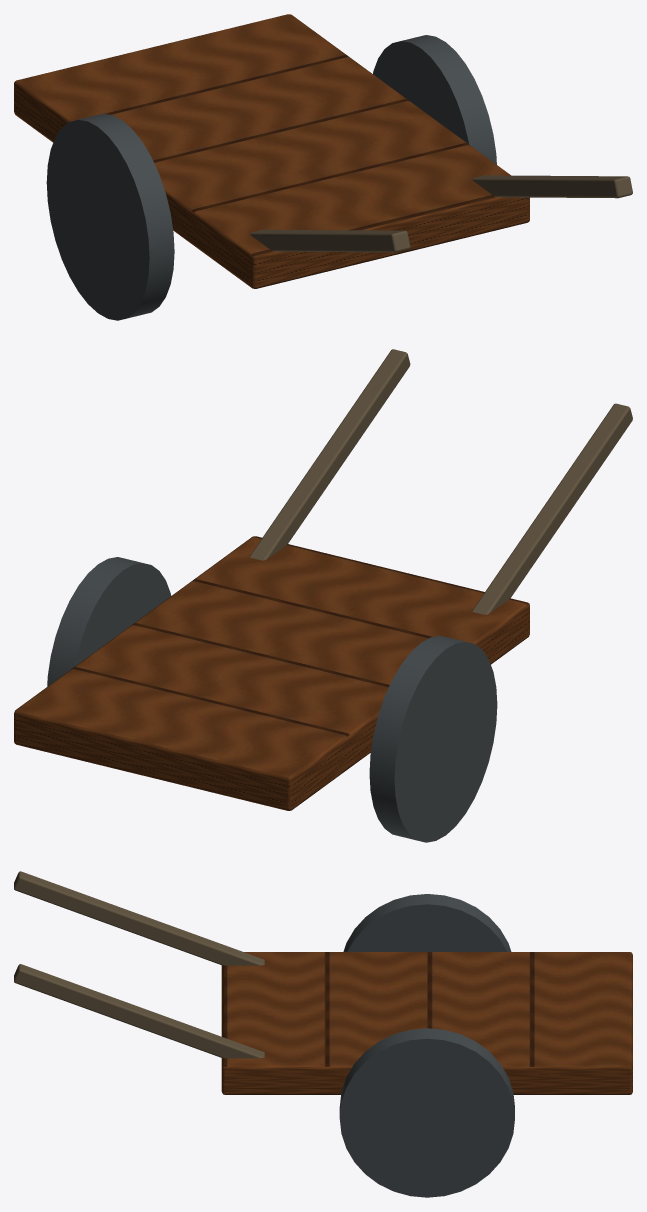
The model's file is undercity-sewers-and-thieves-den-maintenance-handcart-eb97b400__27222.glb.
The picture shows the model from 3 angles, top to bottom: view 1: azimuth 30°, elevation 25°; view 2: azimuth 150°, elevation 25°; view 3: azimuth 270°, elevation 25°; orthographic projection. The views are drawn at different scales.
Parts seen in each view (by area): view 1: maintenance-handcart; view 2: maintenance-handcart; view 3: maintenance-handcart.
Boxes of the visible parts, box(x1,y1,x2,y2) form: maintenance-handcart: box(14, 14, 632, 320); maintenance-handcart: box(14, 349, 632, 842); maintenance-handcart: box(14, 871, 632, 1197).
Size of the model in its own units: 1.25 by 0.8249 by 2.26.
Materials: 3 (1 with a texture image).
